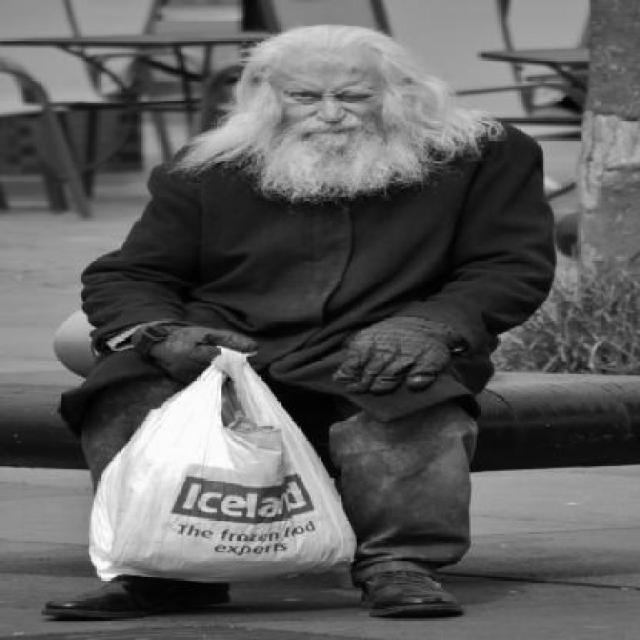plastic bag: (83, 338, 354, 582)
